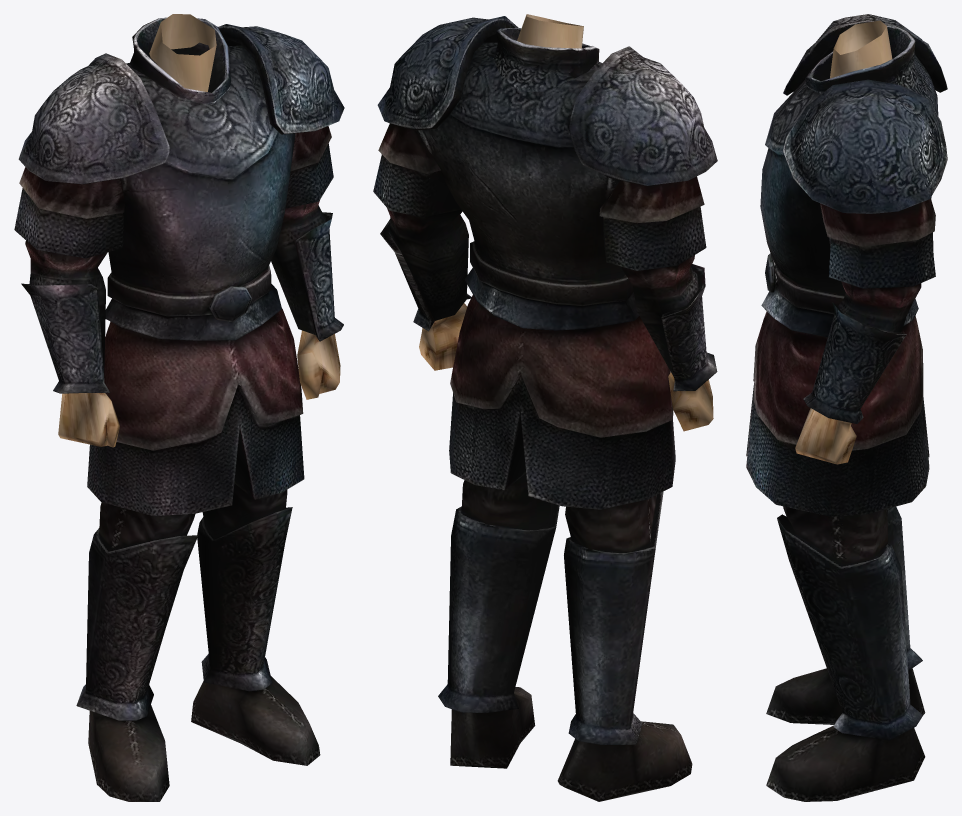
File: KM_KNIGHT_ARMOR.glb
3 renders of one model, left to right at view 1: azimuth 30°, elevation 25°; view 2: azimuth 150°, elevation 25°; view 3: azimuth 270°, elevation 25°, orthographic. The views are drawn at different scales.
Visible parts, largest first — view 1: KM_KNIGHT_ARMOR; view 2: KM_KNIGHT_ARMOR; view 3: KM_KNIGHT_ARMOR.
Boxes of the visible parts, left/top/right/bottom form: KM_KNIGHT_ARMOR: left=14, top=14, right=344, bottom=801; KM_KNIGHT_ARMOR: left=373, top=14, right=717, bottom=801; KM_KNIGHT_ARMOR: left=746, top=14, right=947, bottom=801.
Bounding box in the file's own units: 0.7405 × 1.69 × 0.4264.
Materials: 2 (2 with a texture image).
